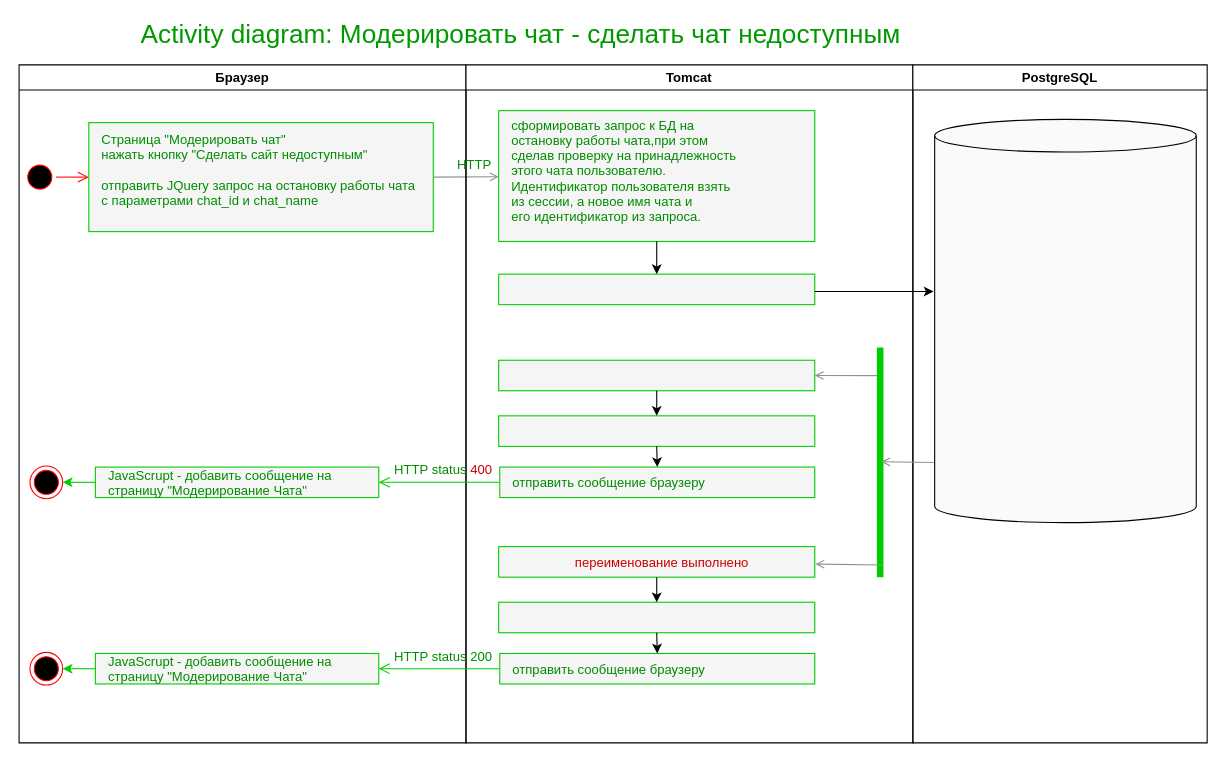
The diagram is 1226 pixels wide and 762 high, and some of its shapes have lost their labels. Here are the shapes that lost their labels. From the top down, the centre of each, then its label:
(656,289): запросить остановку чата в БД
(1065,320): обновить запись чата в таблице user_chats
(656,375): ошибка
(656,430): сформировать HTML код сообщения об ошибке
(656,617): сформировать HTML код сообщения о переименовании
